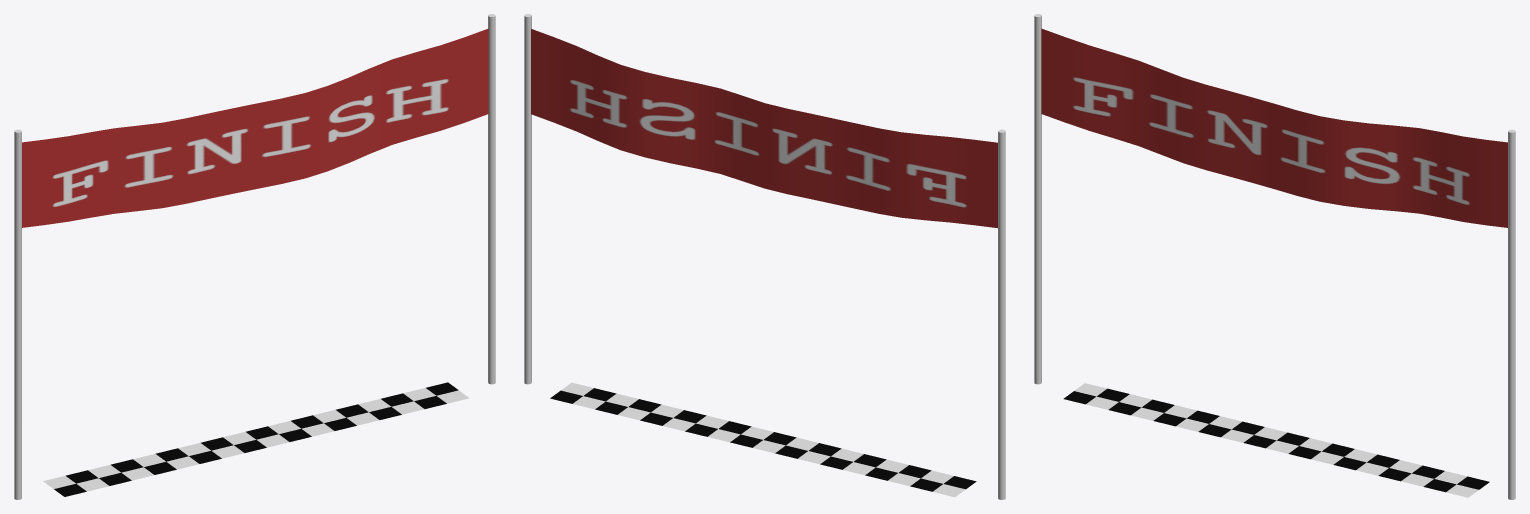
File: KR_Model_FinishLine_v01_Vang.fbx
The picture shows the model from 3 angles, left to right: view 1: azimuth 30°, elevation 25°; view 2: azimuth 150°, elevation 25°; view 3: azimuth 330°, elevation 25°; orthographic projection.
Parts seen in each view (by area): view 1: Finish, pPlane2, pCylinder1, pCylinder2; view 2: Finish, pPlane2, pCylinder1, pCylinder2; view 3: Finish, pPlane2, pCylinder1, pCylinder2.
Part boxes in pixels (x1,y1,x2,y2): Finish: (22,28,488,227); pPlane2: (43,382,469,496); pCylinder1: (14,129,21,499); pCylinder2: (488,14,495,384); Finish: (531,29,997,228); pPlane2: (550,382,976,497); pCylinder1: (998,129,1005,499); pCylinder2: (524,14,531,384); Finish: (1041,28,1507,227); pPlane2: (1063,383,1489,497); pCylinder1: (1034,14,1041,384); pCylinder2: (1508,129,1515,499).
Size of the model in its own units: 42.56 by 31.09 by 3.34.
3 materials, 1 textured.
